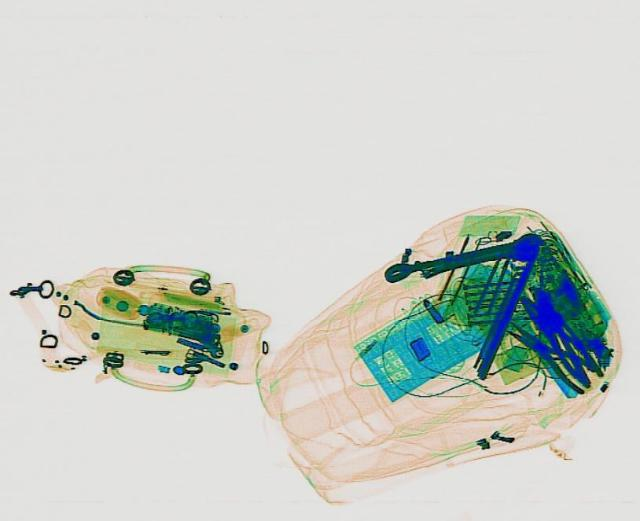Pliers: (504, 291, 604, 388), (491, 313, 607, 394)
Wrench: (378, 228, 552, 287)
